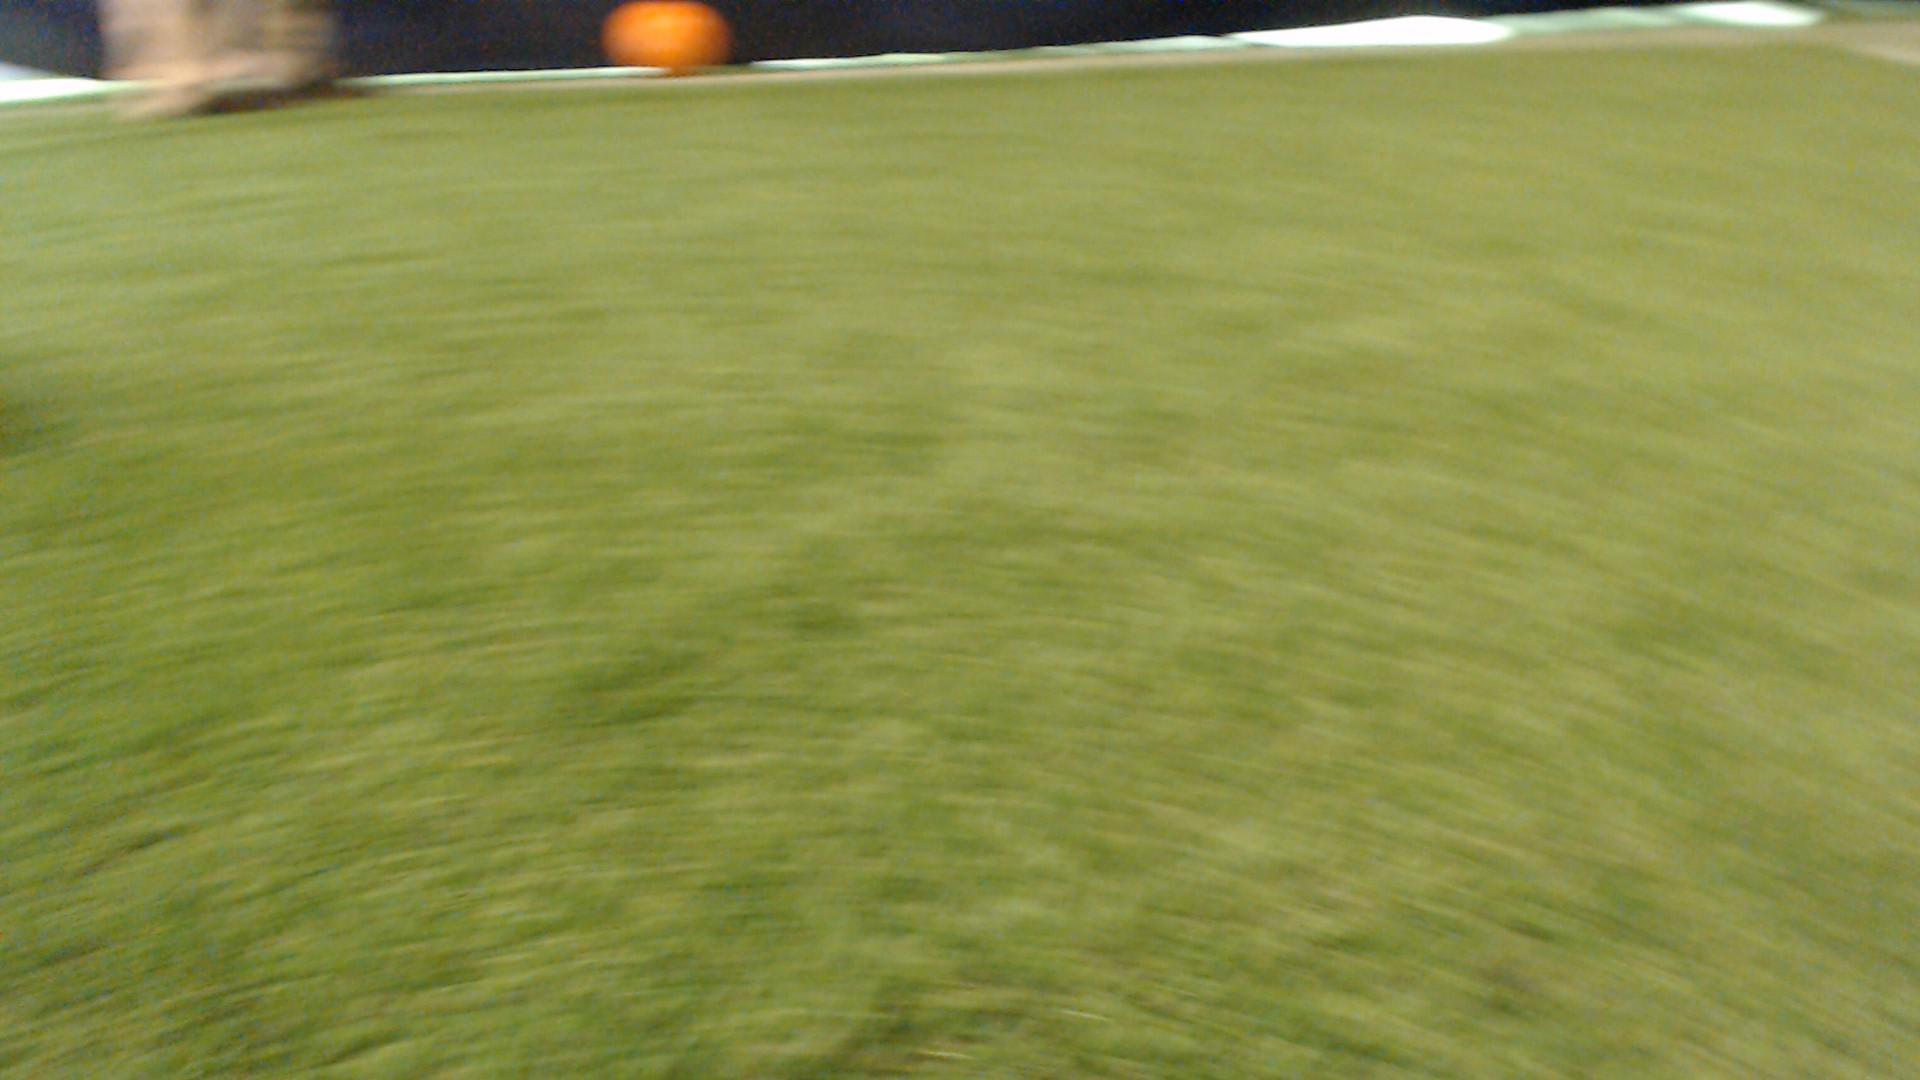bola: (588, 3, 765, 88)
